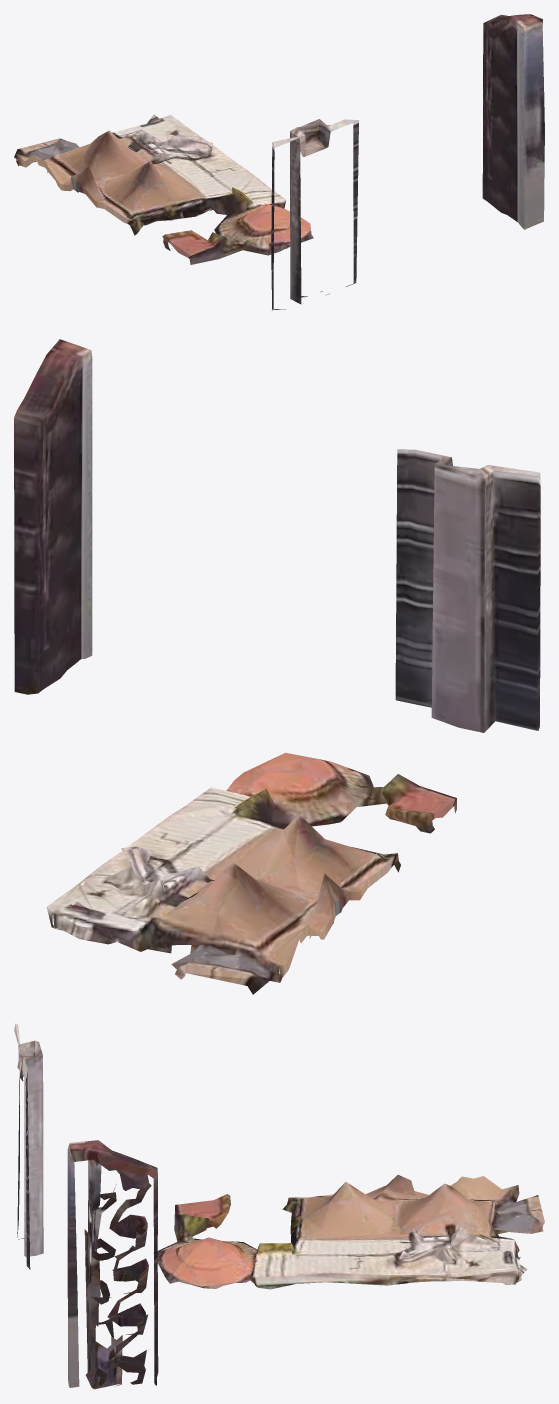
The picture shows the model from 3 angles, top to bottom: view 1: azimuth 30°, elevation 25°; view 2: azimuth 150°, elevation 25°; view 3: azimuth 270°, elevation 25°; orthographic projection. The views are drawn at different scales.
Visible parts, largest first — view 1: Mesh_0; view 2: Mesh_0; view 3: Mesh_0.
Part boxes in pixels (x1,y1,x2,y2): Mesh_0: (14,14,544,310); Mesh_0: (14,339,540,994); Mesh_0: (14,1023,544,1389).
Size of the model in its own units: 33.36 by 19.57 by 38.66.
Materials: 1 (1 with a texture image).
